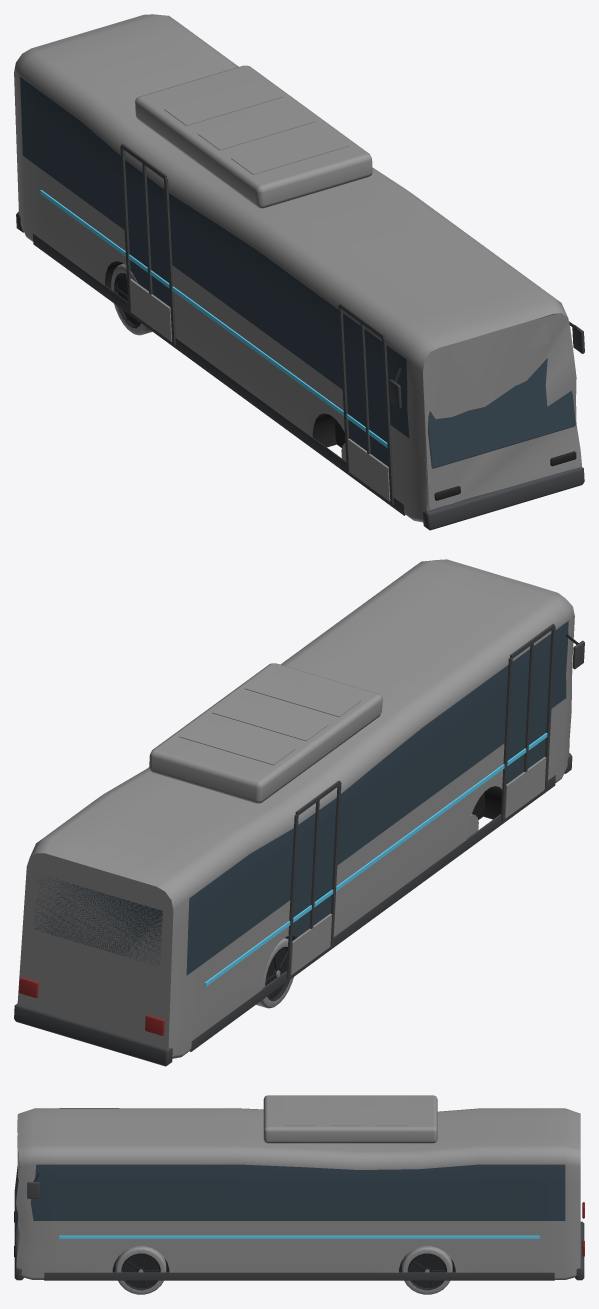
File: Bus_Transit.fbx
The picture shows the model from 3 angles, top to bottom: view 1: azimuth 30°, elevation 25°; view 2: azimuth 150°, elevation 25°; view 3: azimuth 270°, elevation 25°; orthographic projection. The views are drawn at different scales.
Parts seen in each view (by area): view 1: Bus_Transit_LOD0; view 2: Bus_Transit_LOD0; view 3: Bus_Transit_LOD0.
Part boxes in pixels (x1,y1,x2,y2): Bus_Transit_LOD0: (14,14,584,530); Bus_Transit_LOD0: (14,559,584,1066); Bus_Transit_LOD0: (14,1095,584,1294).
Size of what is drawn, in the model's own units: 2.92 by 3.5 by 11.17.
